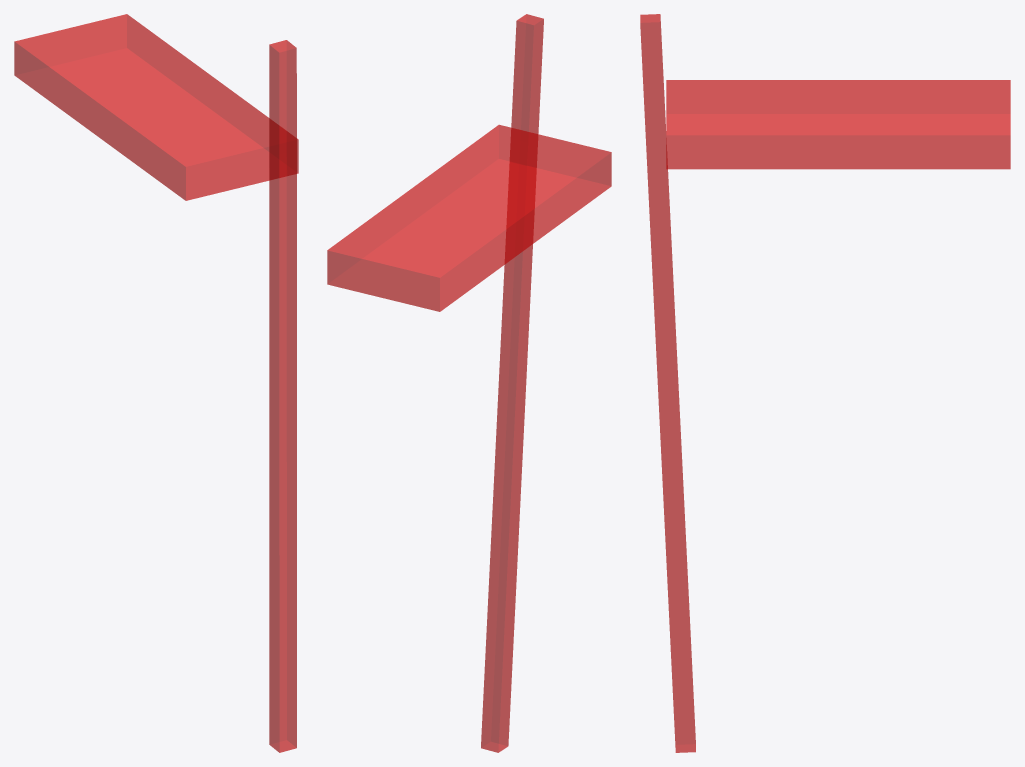
File: SM_Bld_Rickety_Dock_03_Collision.fbx
3 views of the same model, side by side, from view 1: azimuth 30°, elevation 25°; view 2: azimuth 150°, elevation 25°; view 3: azimuth 270°, elevation 25° (orthographic).
Parts seen in each view (by area): view 1: SM_Bld_Rickety_Dock_03_Collision; view 2: SM_Bld_Rickety_Dock_03_Collision; view 3: SM_Bld_Rickety_Dock_03_Collision.
Part boxes in pixels (x1,y1,x2,y2): SM_Bld_Rickety_Dock_03_Collision: (14,14,298,752); SM_Bld_Rickety_Dock_03_Collision: (327,14,611,752); SM_Bld_Rickety_Dock_03_Collision: (640,14,1010,752).
Size of the model in its own units: 141 by 836 by 389.
